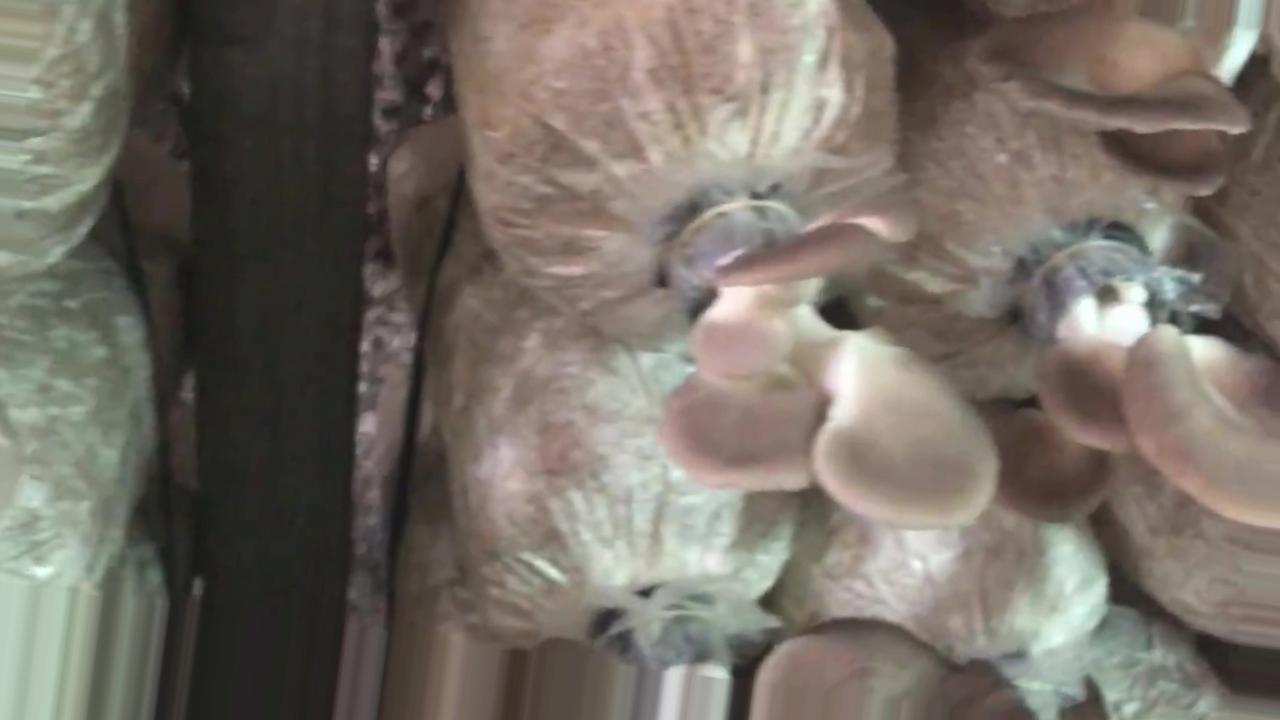nam: (657, 188, 1002, 534), (1036, 232, 1280, 533)
